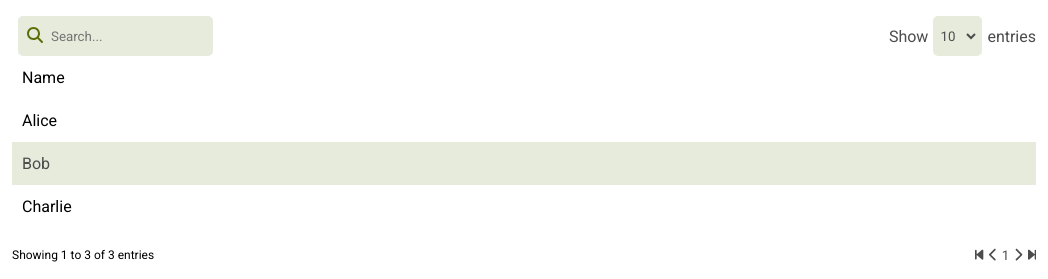
Test case: When no data matches the search term, then no rows are displayed
Note: Search for a non-existent term
Type "Zoe" into the field with test id "search-input". click: (115, 36)
box: [18,16,212,56]
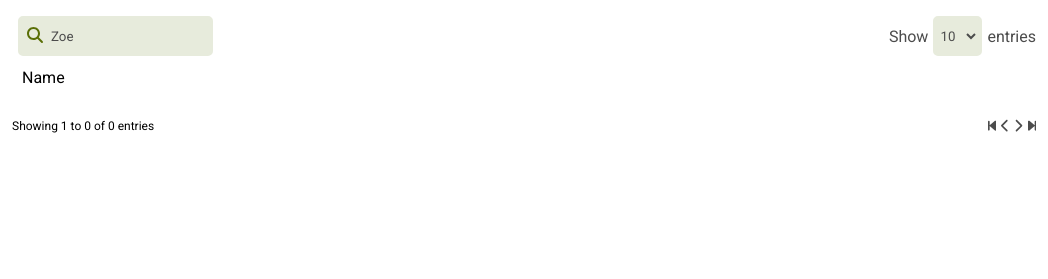
Result: no rows with test id "table-row" are shown
